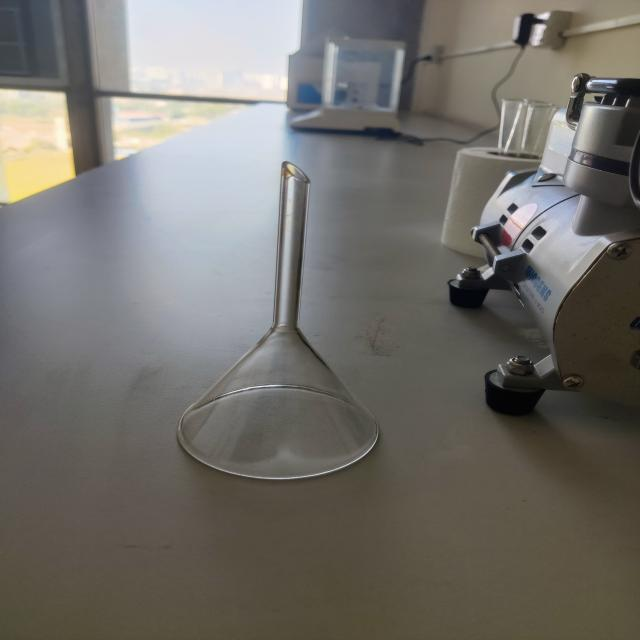Funnel: (128, 128, 434, 520)
